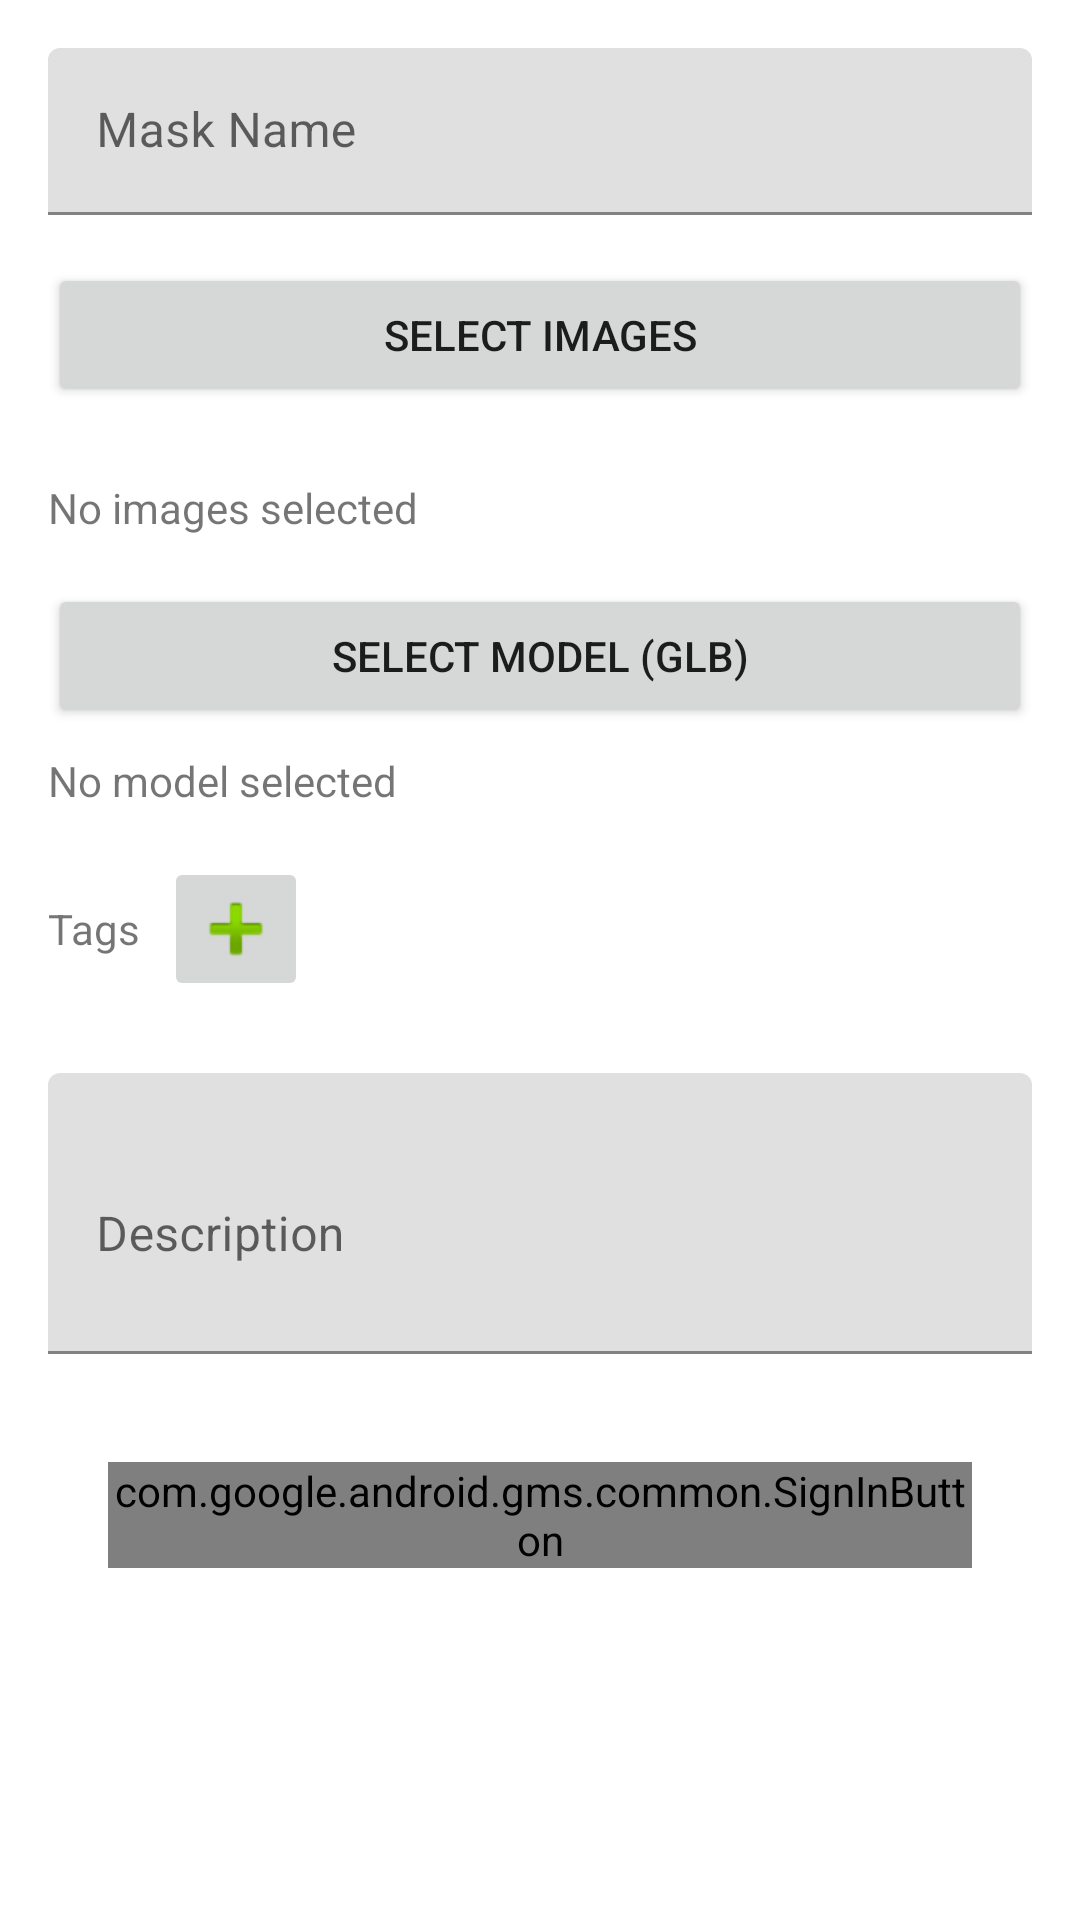

Screen size 1080w x 1920h. Icon name, then its center in pixels as [x,y]:
add: [236,929]
